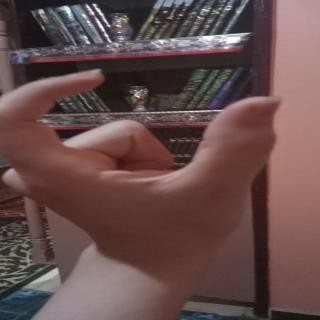NOON: (0, 58, 306, 239)
